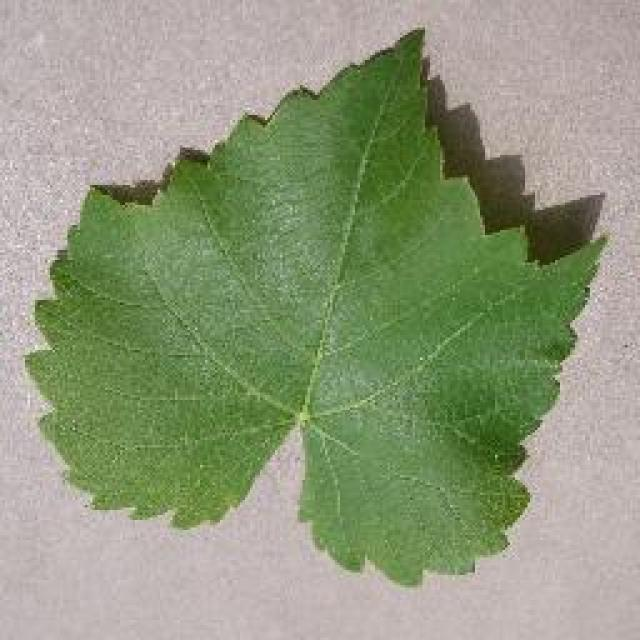Healthy: (38, 14, 611, 602)
